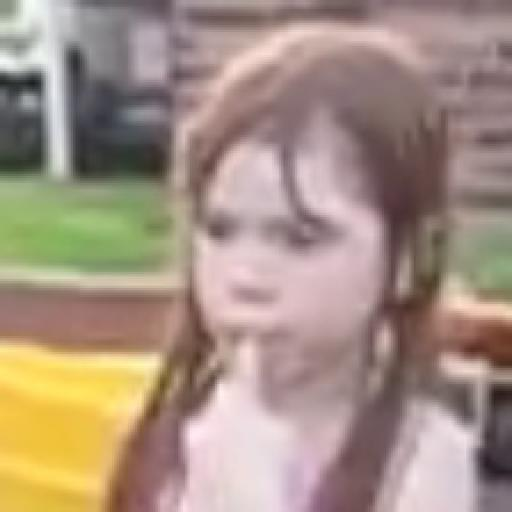Autism: (186, 41, 474, 433)
